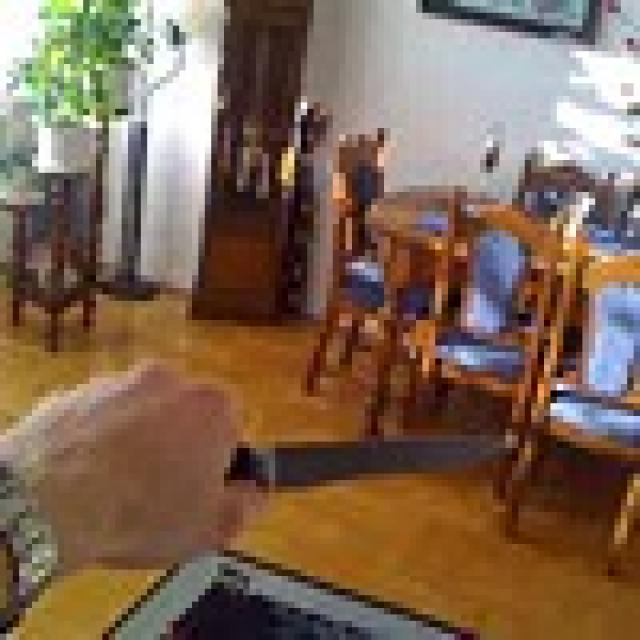Knife_Handle: (90, 362, 518, 566)
